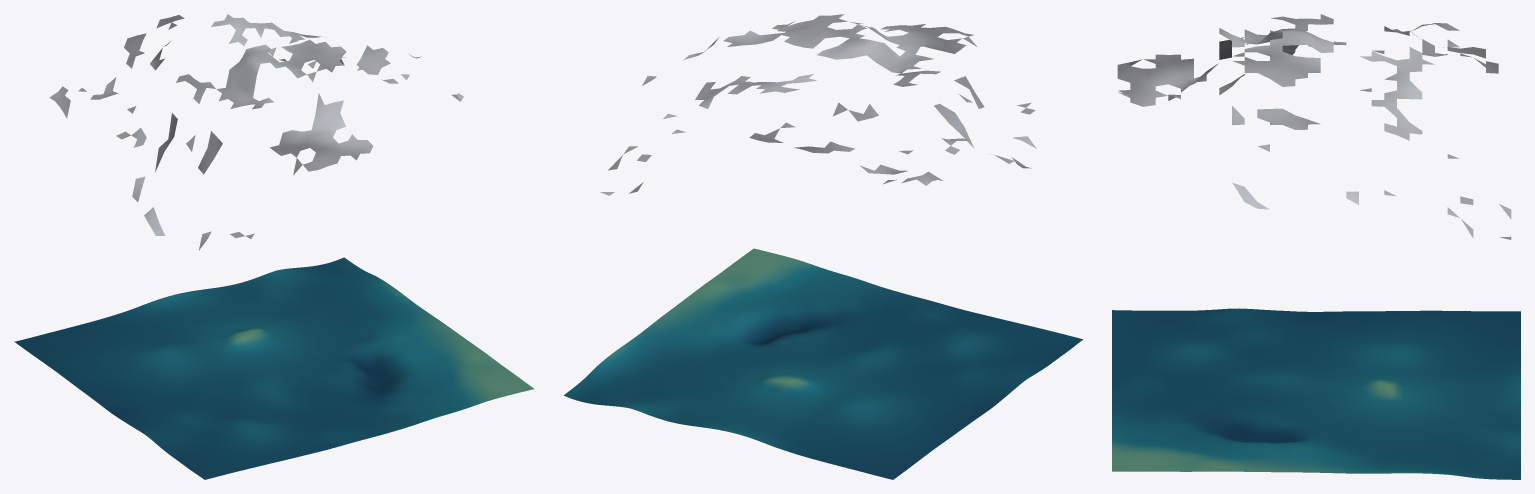
File: terrain3d2-hunga-tonga.glb
3 views of the same model, side by side, from view 1: azimuth 30°, elevation 25°; view 2: azimuth 150°, elevation 25°; view 3: azimuth 270°, elevation 25° (orthographic). The views are drawn at different scales.
Parts seen in each view (by area): view 1: Recorded terrain elevations, Retrieved plume top, Himawari-8 infrared brightness; view 2: Recorded terrain elevations, Retrieved plume top, Himawari-8 infrared brightness; view 3: Recorded terrain elevations, Retrieved plume top, Himawari-8 infrared brightness.
Part boxes in pixels (bbox=[...]): Recorded terrain elevations: bbox=[14, 257, 533, 479]; Retrieved plume top, Himawari-8 infrared brightness: bbox=[49, 14, 463, 250]; Recorded terrain elevations: bbox=[564, 248, 1082, 479]; Retrieved plume top, Himawari-8 infrared brightness: bbox=[600, 14, 1036, 195]; Recorded terrain elevations: bbox=[1112, 308, 1520, 479]; Retrieved plume top, Himawari-8 infrared brightness: bbox=[1117, 14, 1511, 239].
Size of the model in its own units: 64000 by 61239 by 64000.
2 materials, 2 textured.
